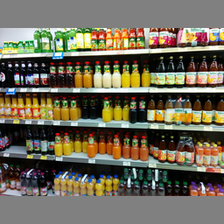juice: (101, 97, 113, 121), (122, 60, 131, 86), (87, 133, 96, 159), (54, 131, 63, 155), (40, 28, 49, 52)
